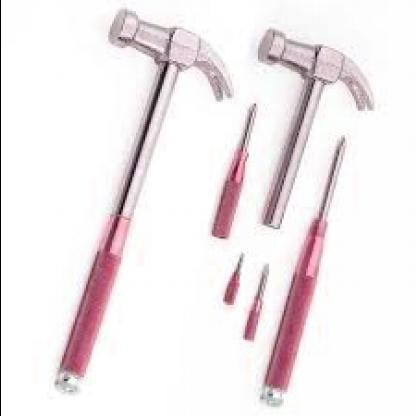Hammer: (46, 7, 238, 398), (250, 22, 382, 234)
